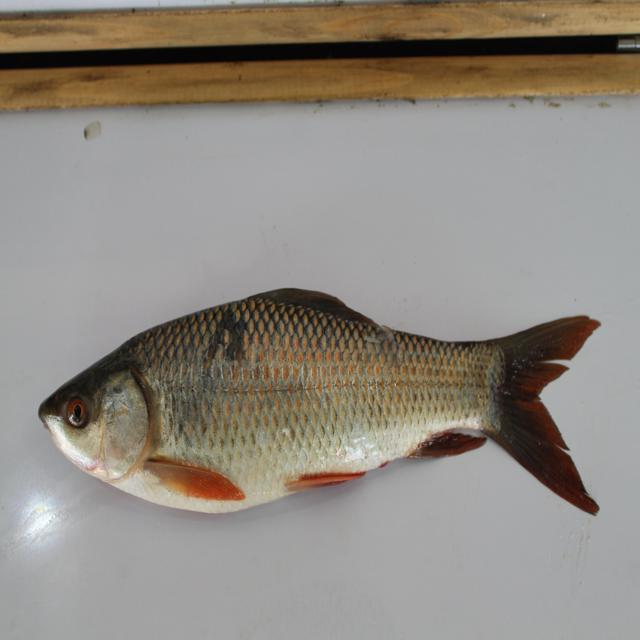Rohu: (42, 280, 598, 546)
